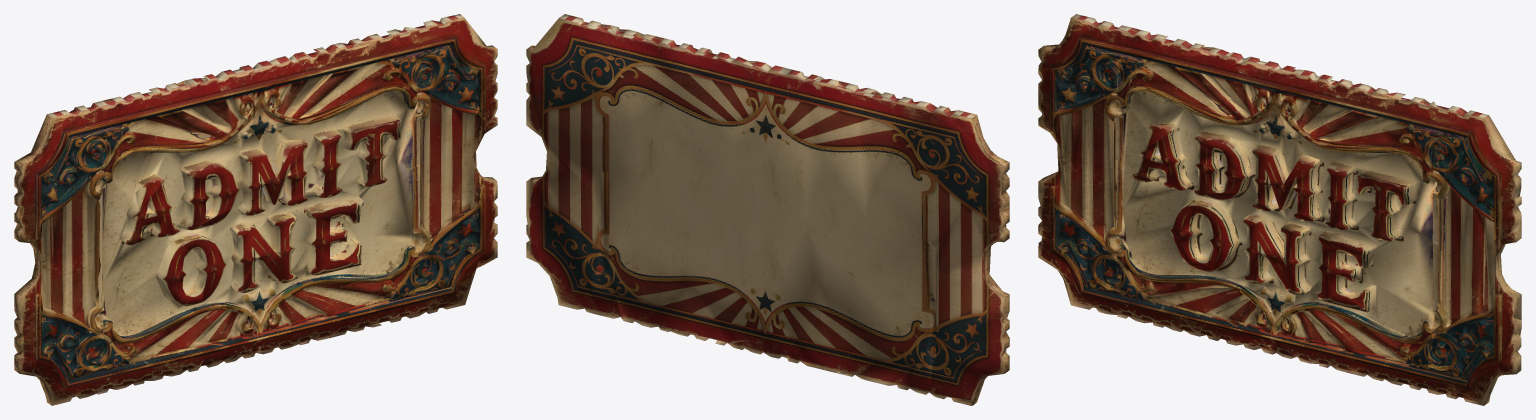
File: Meshy_AI_Admit_One_0508025624_texture.fbx
3 renders of one model, left to right at view 1: azimuth 30°, elevation 25°; view 2: azimuth 150°, elevation 25°; view 3: azimuth 330°, elevation 25°, orthographic.
Parts seen in each view (by area): view 1: Mesh_0; view 2: Mesh_0; view 3: Mesh_0.
Boxes of the visible parts, left/top/right/bottom form: Mesh_0: left=14, top=14, right=497, bottom=405; Mesh_0: left=526, top=14, right=1009, bottom=405; Mesh_0: left=1038, top=14, right=1521, bottom=405.
Bounding box in the file's own units: 191 × 110 × 9.69.
1 material, 1 textured.
